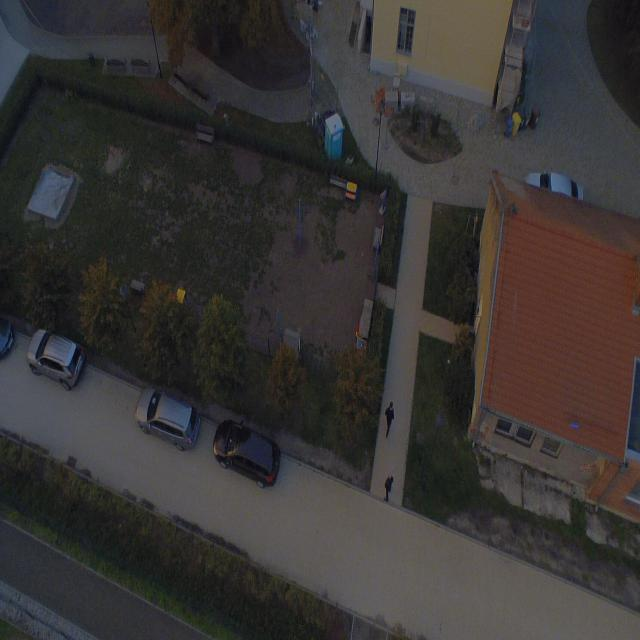p3rson: (384, 400, 394, 440), (384, 473, 394, 502)
